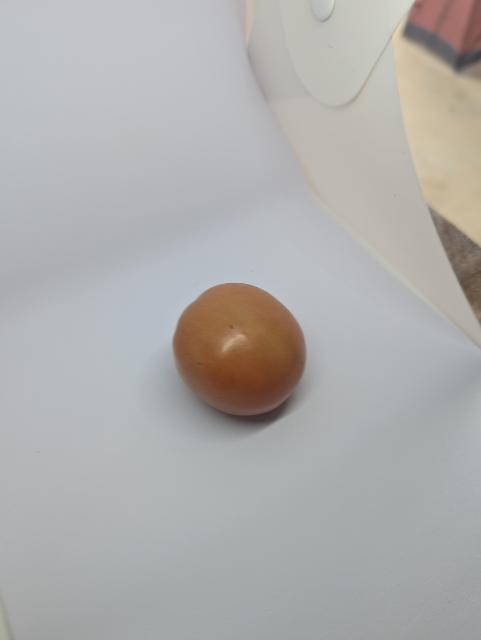turning: (170, 271, 320, 427)
